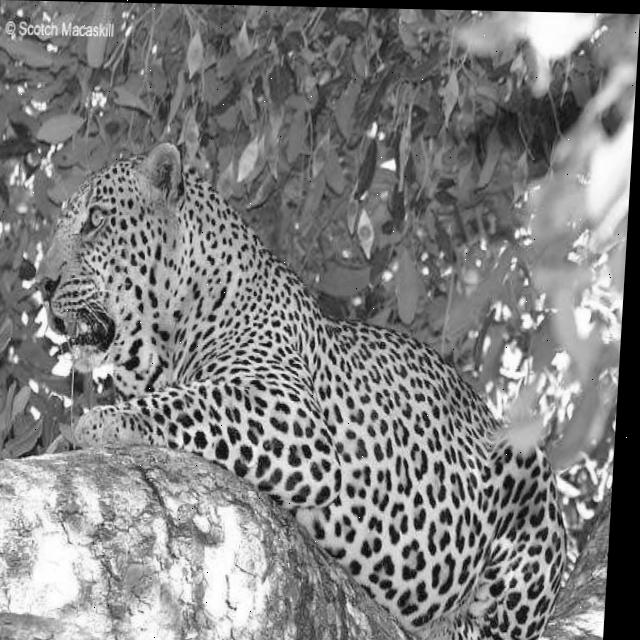Leopard: (12, 136, 593, 640)
